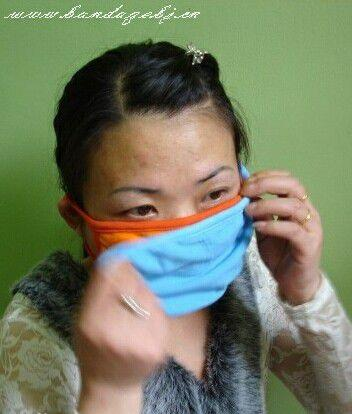OK: (86, 164, 241, 313)
